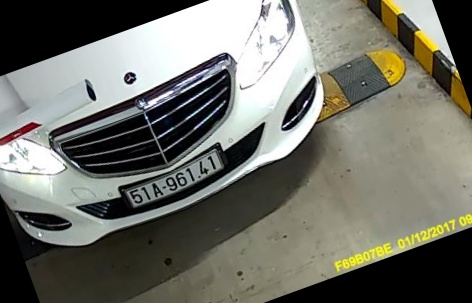plate: (118, 143, 229, 219)
